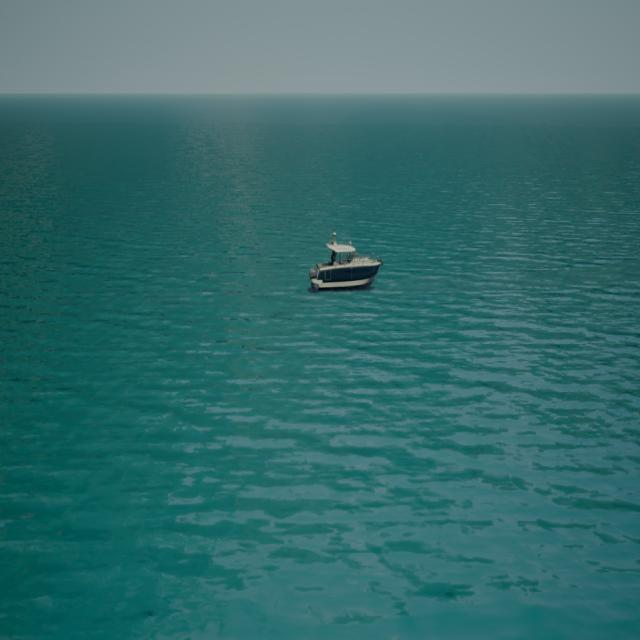ship: (309, 230, 384, 290)
